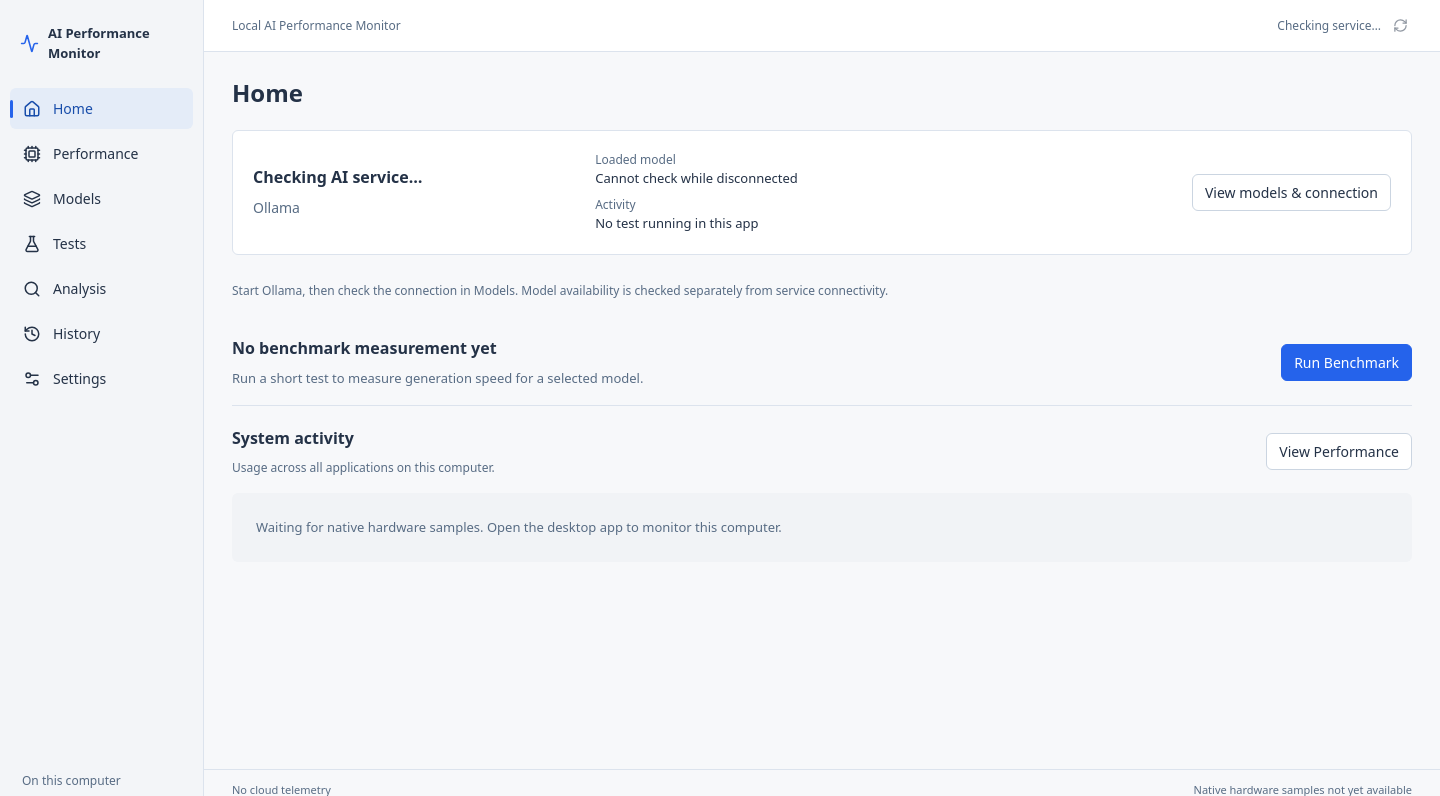
navigates all seven destinations and secondary views with accessible selection
Click the button "Analysis".
click(102, 288)  # box [10, 268, 193, 309]
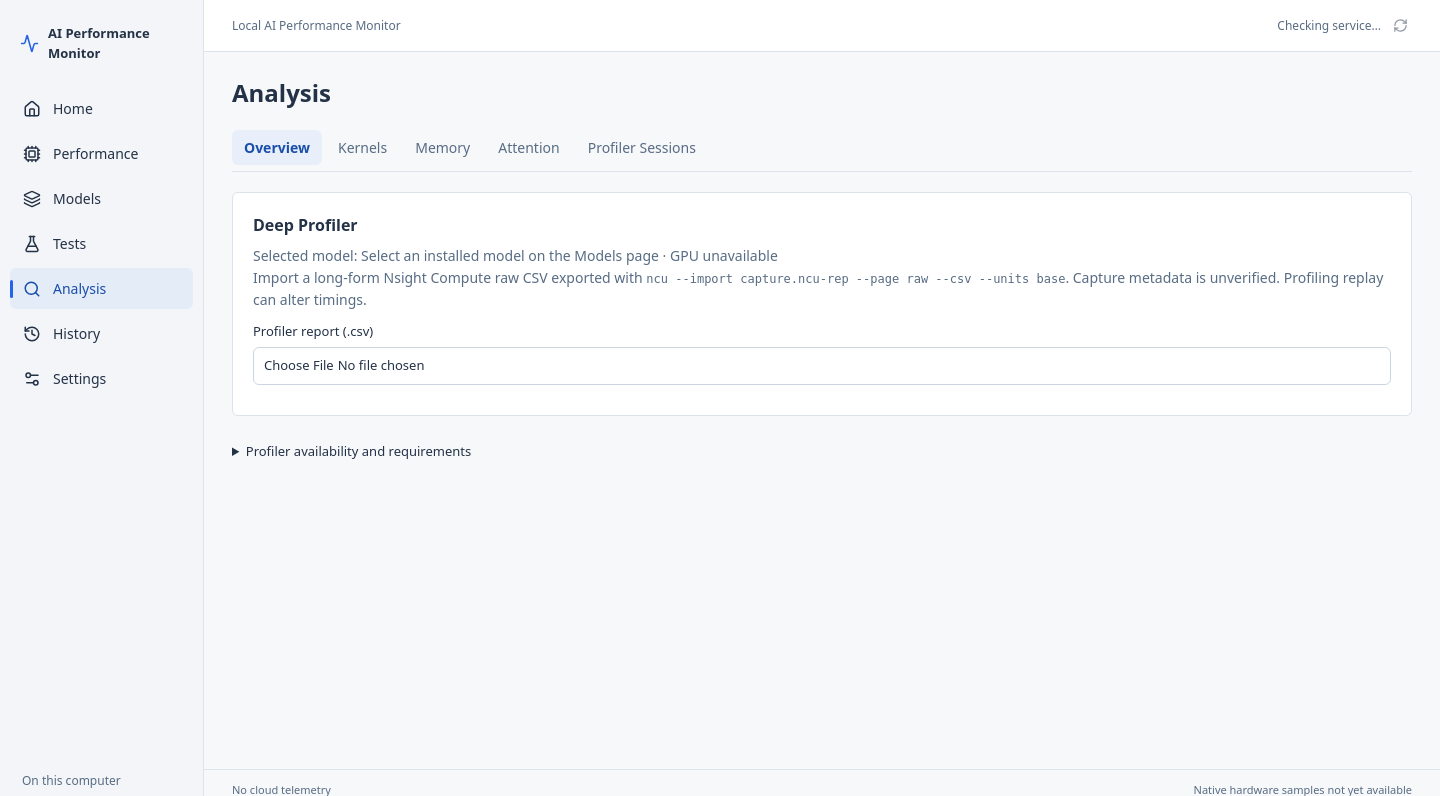
Expected: the navigation bar named "Analysis views" is shown, [232, 130, 1412, 172]
Click the button "Kernels".
click(363, 147)  # box [326, 130, 399, 165]
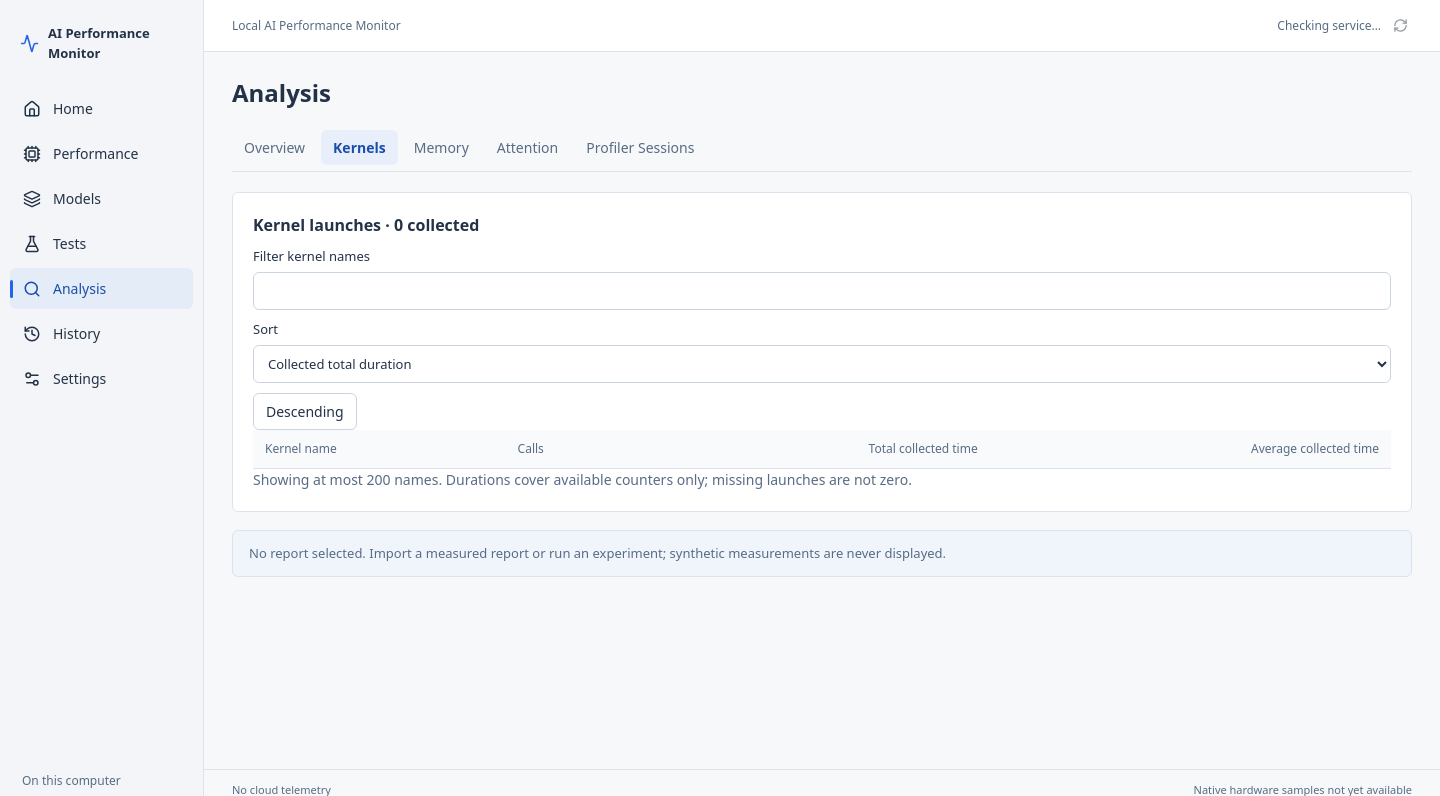
Expected: the button "Kernels" is marked as current, [321, 130, 398, 165]
Click the button "Tests".
click(102, 244)  # box [10, 223, 193, 264]
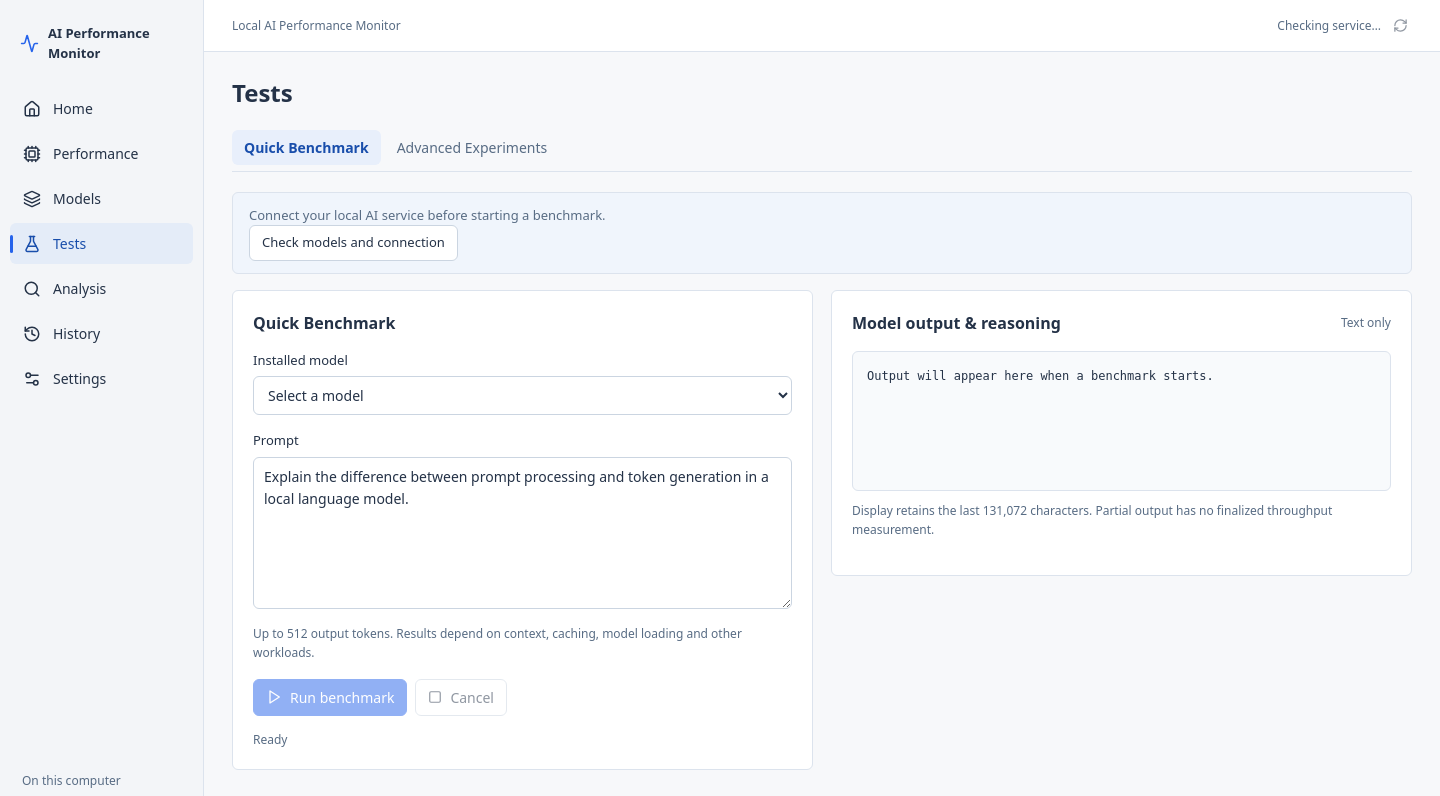
Expected: the button "Quick Benchmark" is shown, [232, 130, 381, 165]
Click the button "History".
click(102, 334)  # box [10, 313, 193, 354]
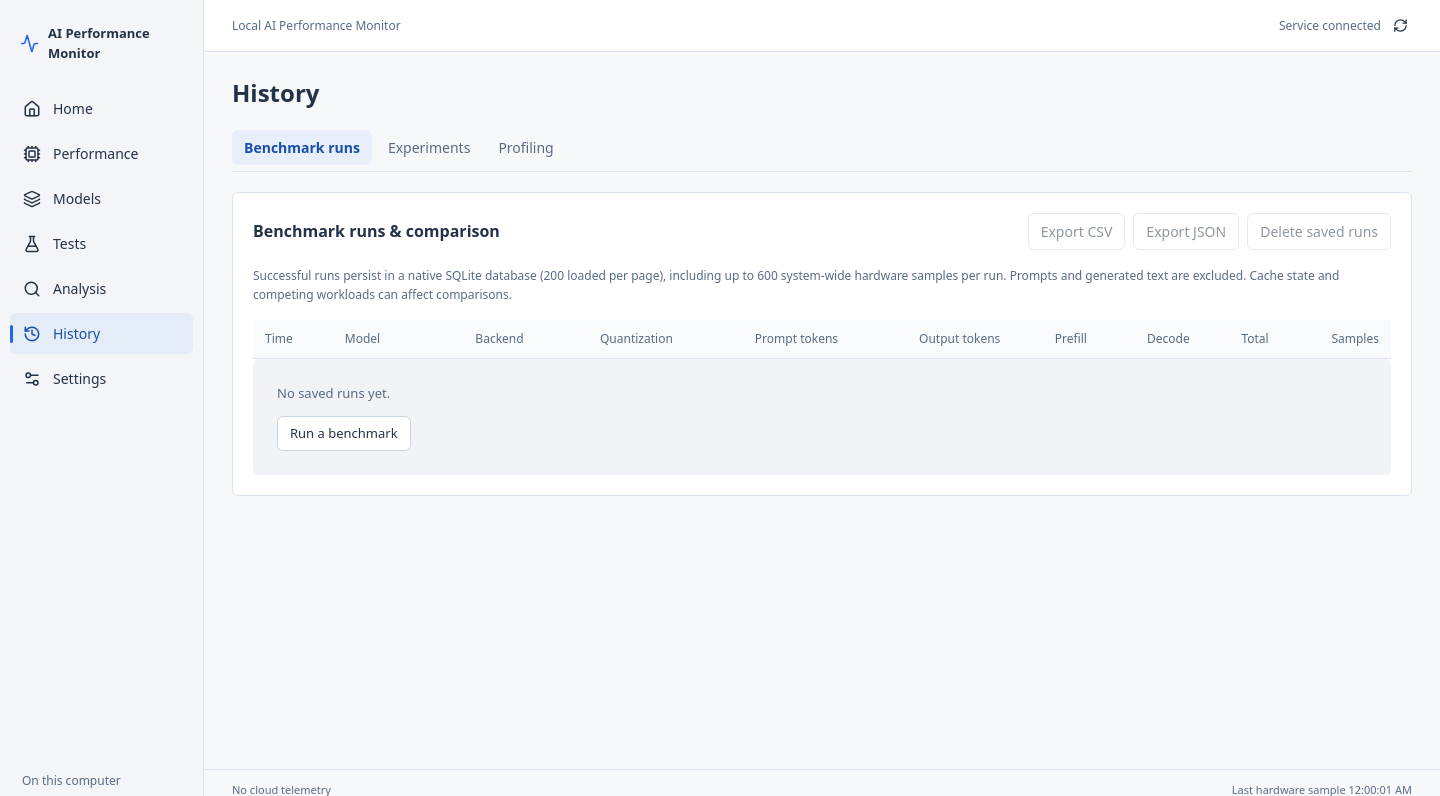
Expected: the text "No saved runs yet." is shown, [277, 384, 390, 402]
